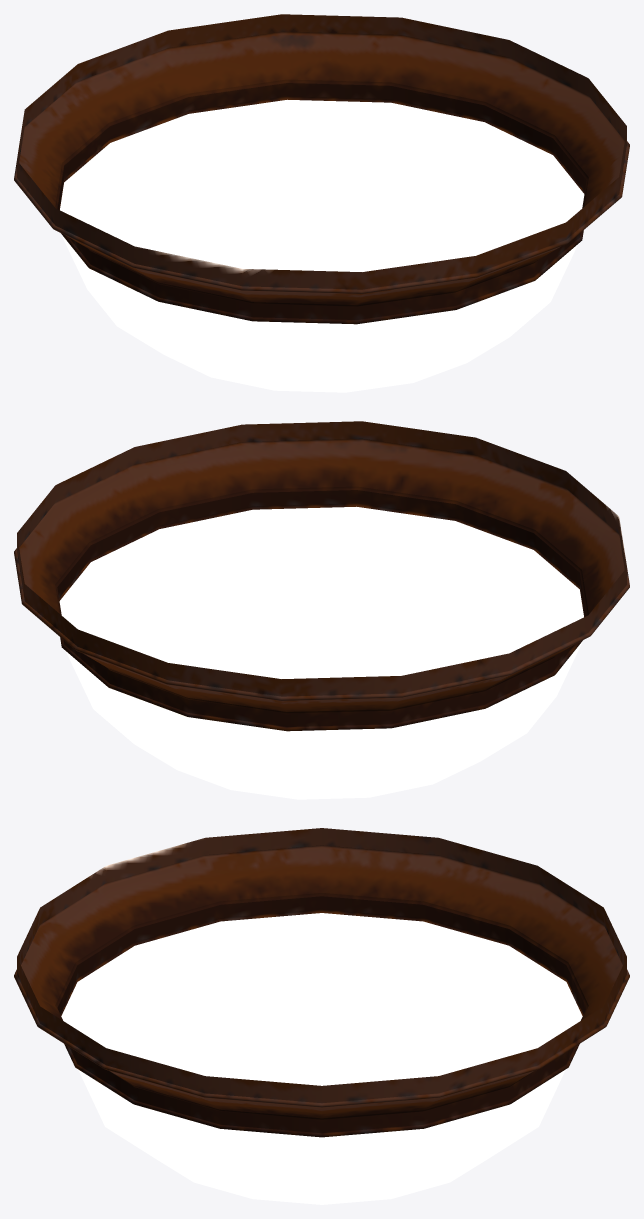
Rendered from light_ceiling_light.fbx.
3 views of the same model, one above another, from view 1: azimuth 30°, elevation 25°; view 2: azimuth 150°, elevation 25°; view 3: azimuth 270°, elevation 25° (orthographic).
Parts seen in each view (by area): view 1: Cylinder.005; view 2: Cylinder.005; view 3: Cylinder.005.
Part boxes in pixels (bbox=[...]): Cylinder.005: bbox=[14, 14, 629, 392]; Cylinder.005: bbox=[14, 421, 629, 799]; Cylinder.005: bbox=[14, 828, 629, 1204].
Size of the model in its own units: 46.35 by 18.78 by 46.35.
